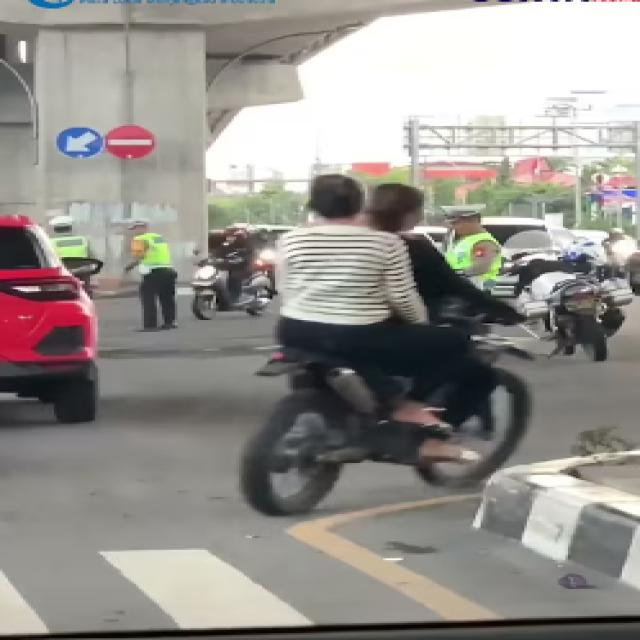WithoutHelmet: (270, 174, 463, 444), (370, 184, 506, 458)
